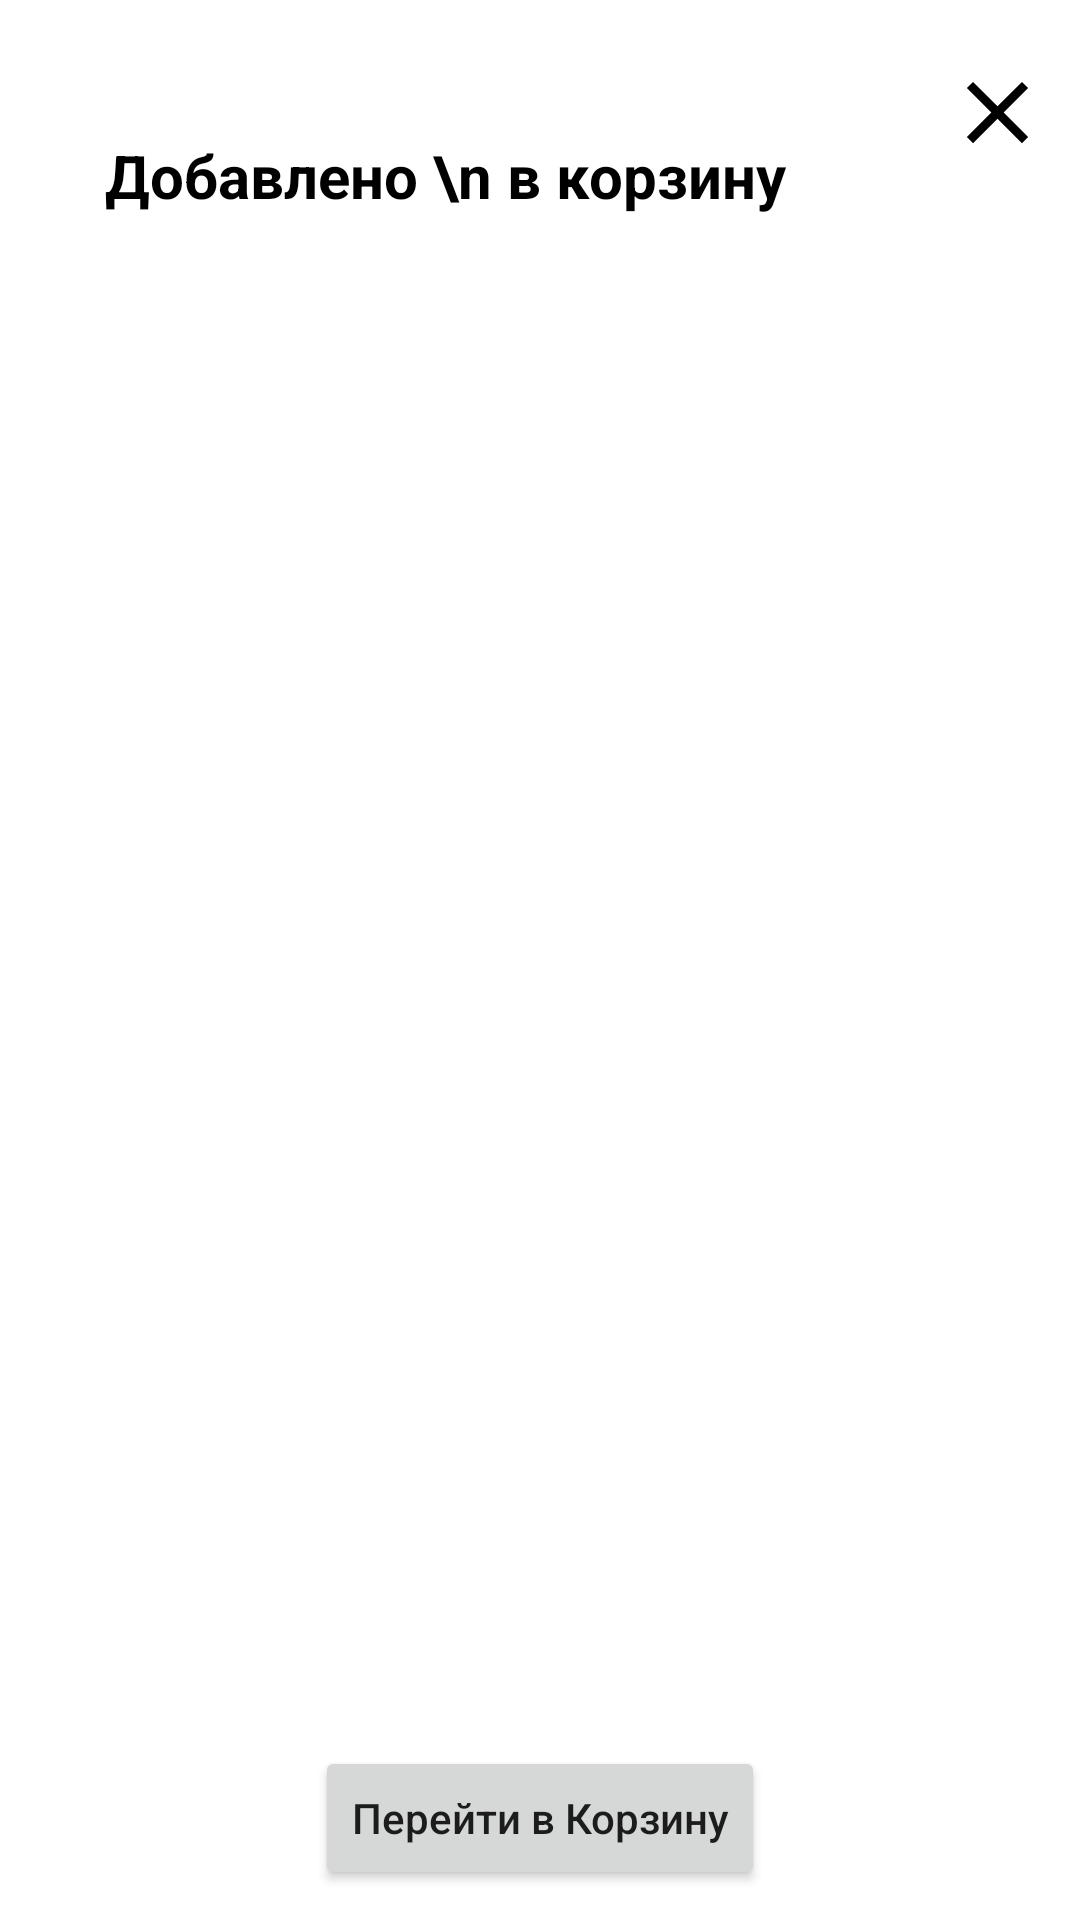

Named icons in this screenshot (1080x1920) and their centers, (x,y):
close: (997,112)
